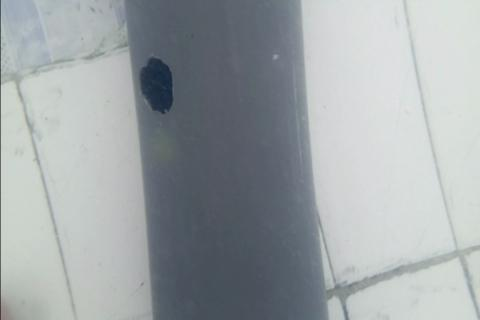kebocoran: (136, 53, 176, 114)
